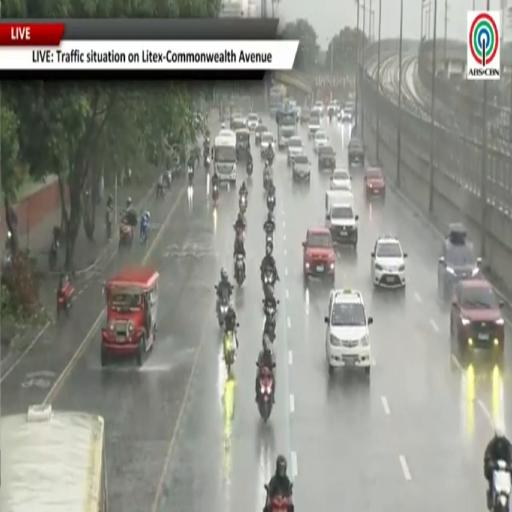bus: (0, 406, 107, 511), (269, 85, 286, 115)
car: (450, 279, 504, 357), (325, 290, 372, 375), (438, 223, 481, 300), (371, 236, 407, 287), (303, 228, 335, 283), (327, 201, 358, 248), (363, 168, 386, 200), (348, 137, 365, 168), (292, 153, 310, 182), (287, 136, 303, 166), (330, 169, 351, 190), (318, 146, 335, 171), (260, 132, 275, 156), (308, 111, 320, 139), (340, 101, 355, 123), (314, 130, 328, 152), (255, 123, 268, 146), (247, 113, 260, 131), (230, 112, 242, 131), (231, 118, 247, 131), (327, 101, 339, 117), (300, 106, 310, 124), (314, 101, 324, 115), (218, 128, 235, 136), (296, 106, 302, 122)
jeepney: (101, 266, 159, 366)
motorcycle: (491, 460, 511, 511), (258, 367, 273, 422), (265, 485, 293, 511), (57, 281, 74, 315), (224, 331, 236, 374), (49, 227, 61, 270), (264, 308, 276, 342), (119, 222, 133, 248), (234, 254, 245, 286), (262, 267, 276, 290), (49, 239, 59, 270), (140, 217, 149, 244), (106, 207, 112, 239), (163, 170, 172, 188), (239, 195, 247, 214), (267, 195, 275, 212), (156, 184, 165, 199), (264, 168, 270, 190), (265, 231, 273, 246), (236, 229, 244, 244), (212, 184, 218, 202), (204, 155, 210, 171), (188, 167, 193, 186), (246, 162, 253, 175), (328, 110, 333, 123), (215, 285, 217, 290)
truck: (213, 131, 236, 183), (276, 104, 297, 149)
